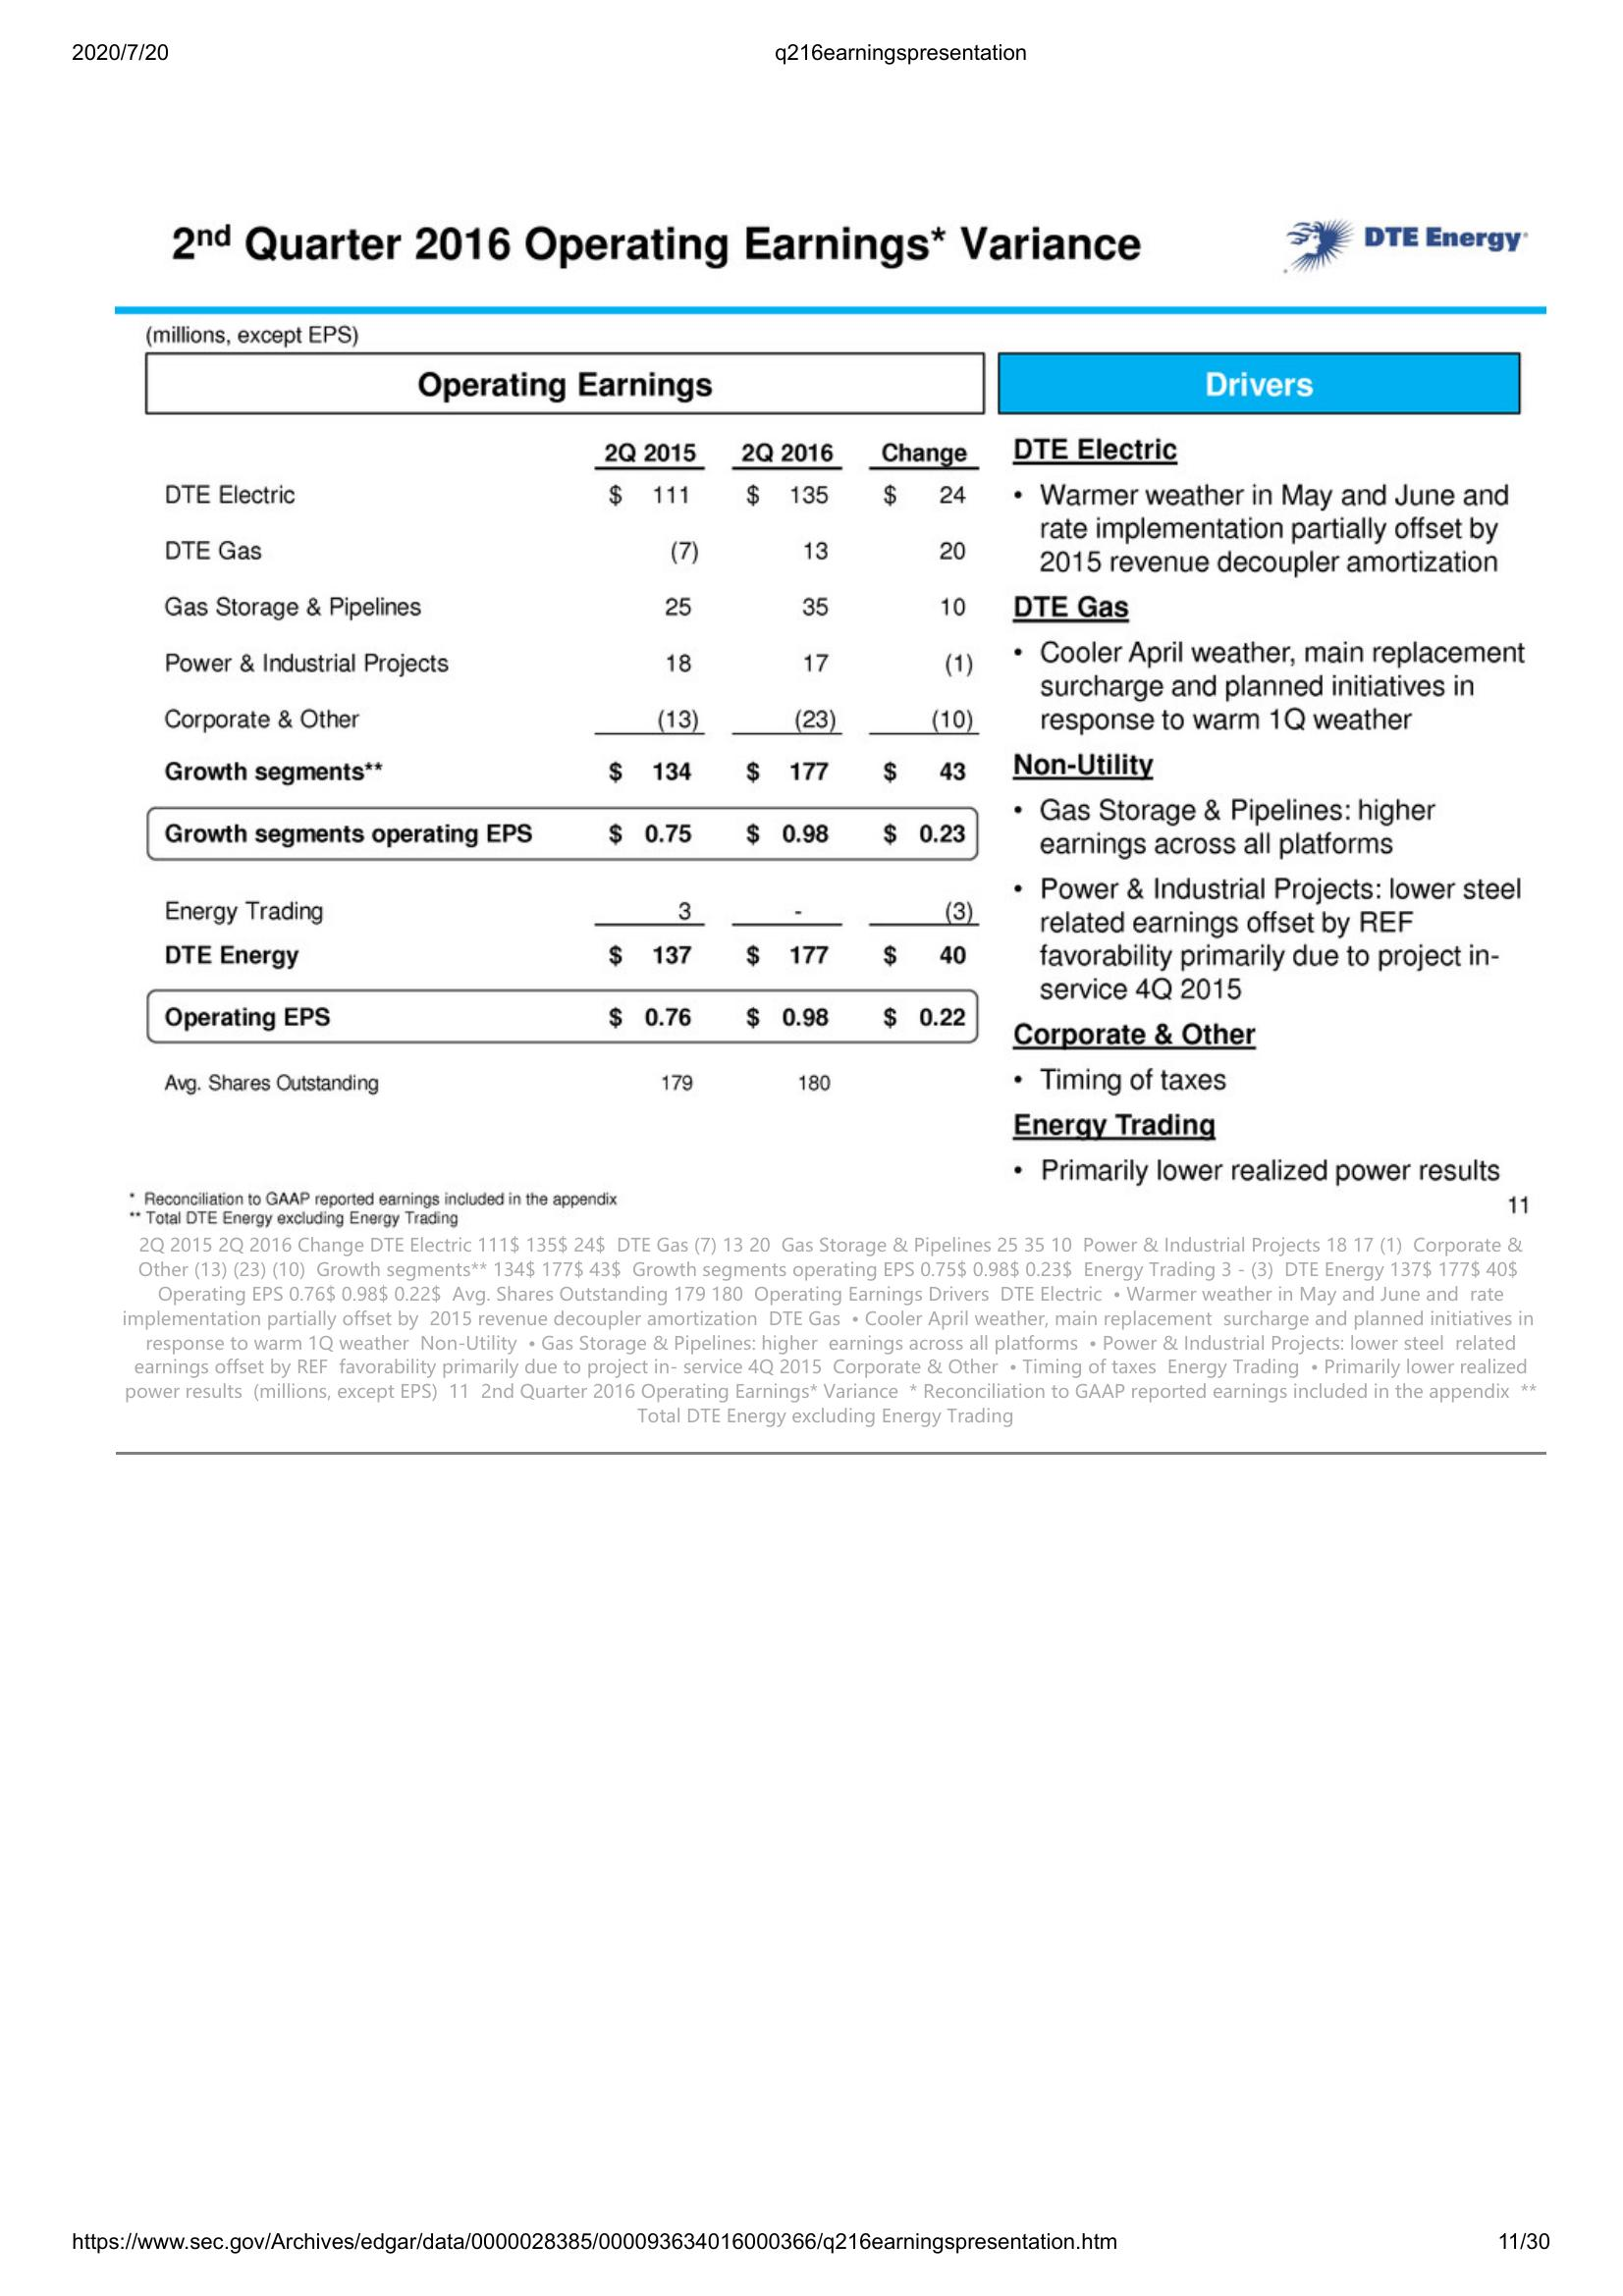table: (135, 342, 987, 1102)
